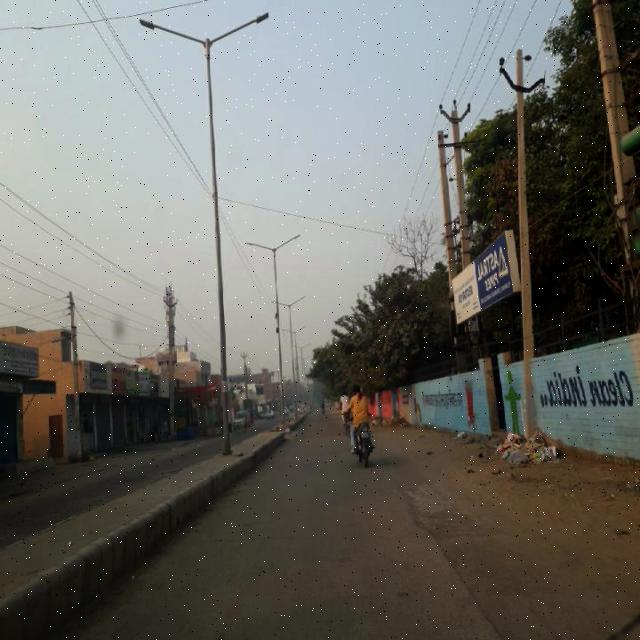D01: (404, 489, 502, 635)
